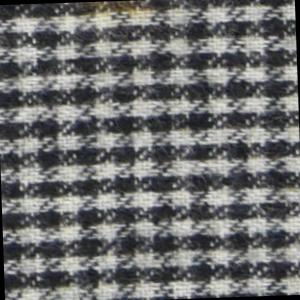Oil Stain: (63, 1, 176, 28)
